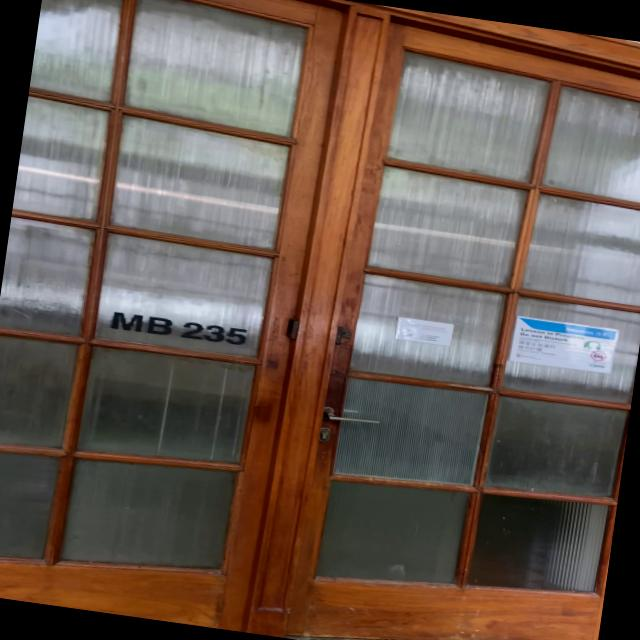room235Window: (106, 306, 256, 352)
